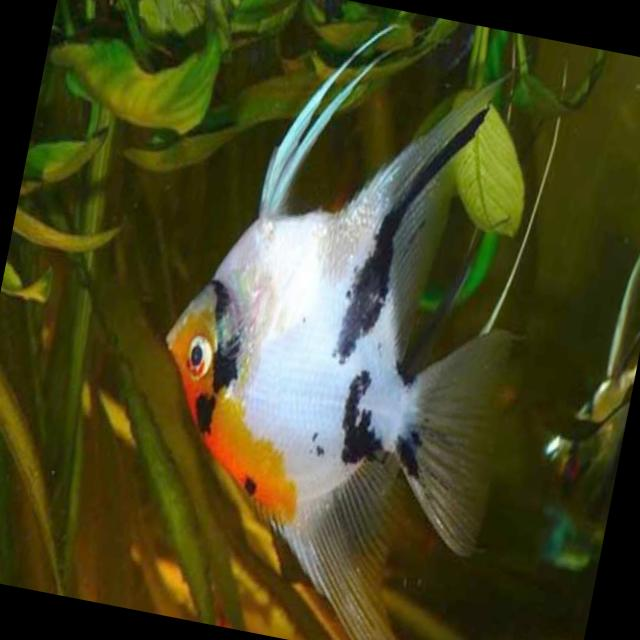AngelFish: (111, 17, 566, 640)
